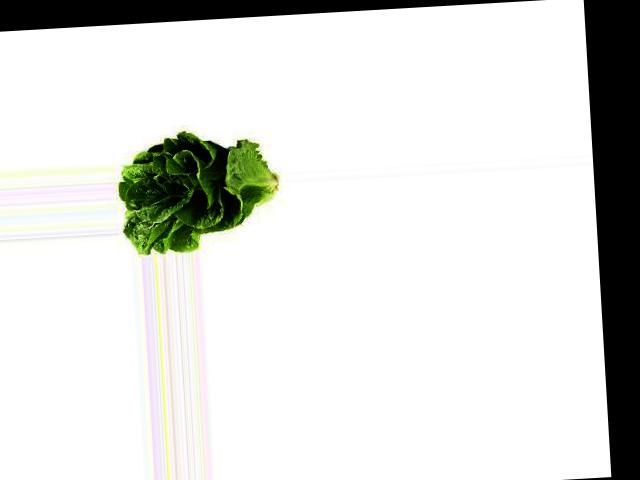lettuce: (119, 131, 286, 256)
